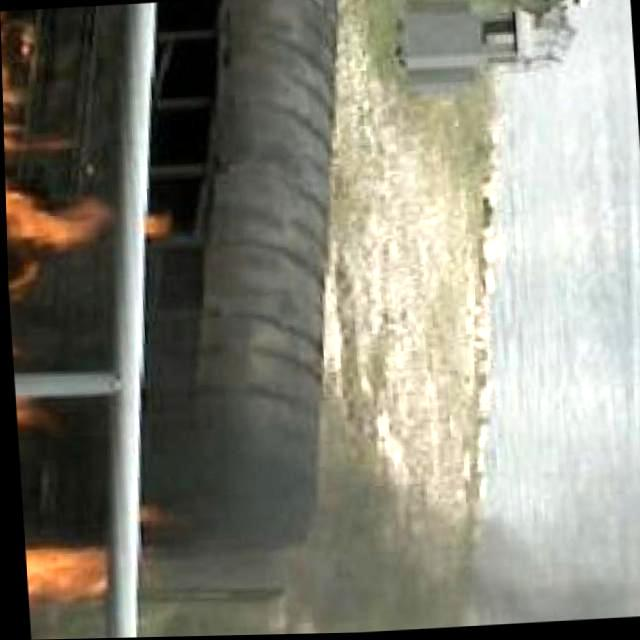fire: (0, 8, 88, 296), (18, 505, 98, 639), (7, 311, 58, 435)
